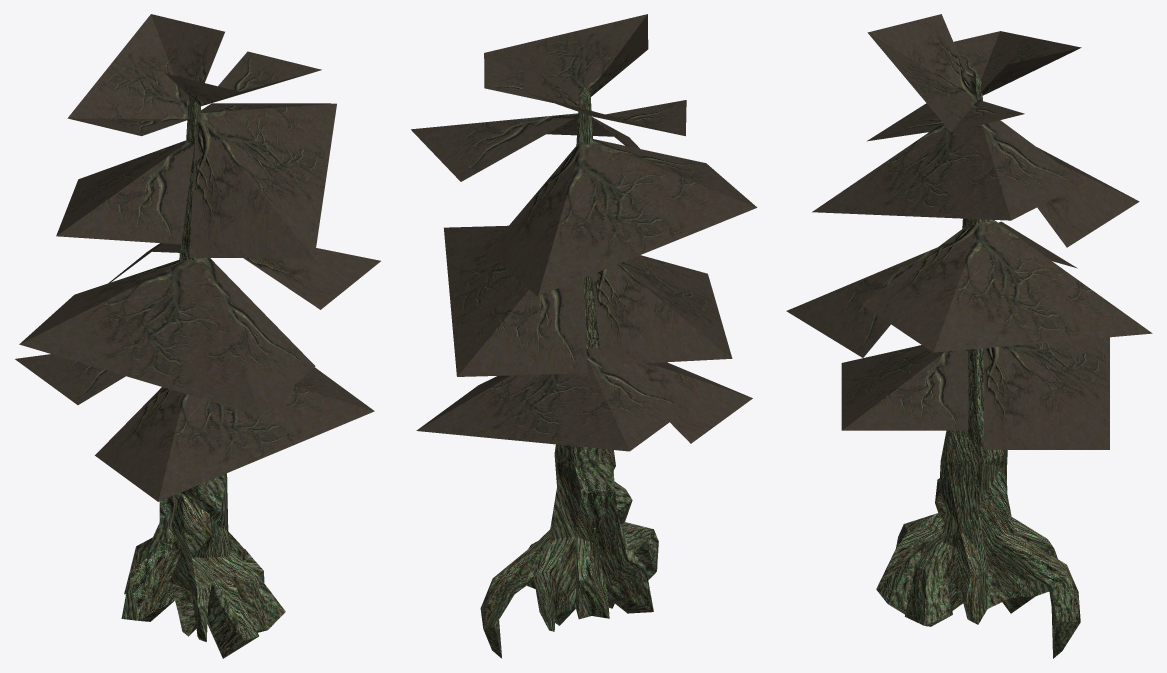
File: decd_dath_humungtree_l1.fbx
3 views of the same model, side by side, from view 1: azimuth 30°, elevation 25°; view 2: azimuth 150°, elevation 25°; view 3: azimuth 270°, elevation 25° (orthographic).
Parts seen in each view (by area): view 1: mesh_node; view 2: mesh_node; view 3: mesh_node.
Part boxes in pixels (x1,y1,x2,y2): mesh_node: (15, 14, 380, 658); mesh_node: (411, 14, 757, 658); mesh_node: (786, 14, 1152, 658).
Size of the model in its own units: 44.63 by 78.28 by 43.38.
3 materials, 3 textured.
